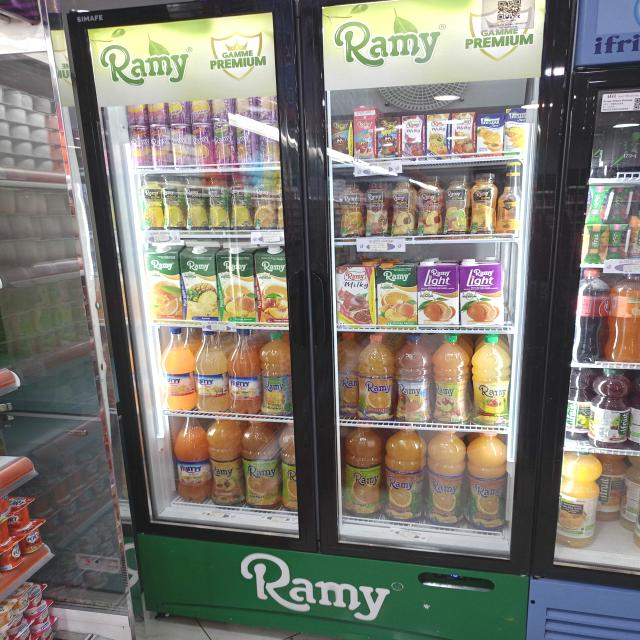Ifruit: (579, 367, 636, 447), (568, 456, 602, 546)
PET Frutty orange 125L: (153, 327, 198, 409), (171, 419, 210, 499)
PET RAMY COCKTAIL 125L: (438, 338, 468, 423)
PET RAMY Orange Ananas125L: (262, 338, 288, 416)
Pack Ramy Orange 2L: (426, 431, 463, 521), (469, 433, 504, 528), (387, 429, 423, 520)
Pack Ramy abricot Peche 2L: (209, 421, 244, 504)
Pack Ramy abricot orange 2L: (243, 424, 280, 508), (346, 427, 381, 513), (280, 427, 304, 510)
Pet Ramy Fraise 20cl: (354, 119, 375, 159)
Pet Ramy Orange ananas 2L: (182, 249, 218, 319)
Pet Ramy Orange peche 2l: (257, 248, 292, 324)
Pet Ramy chocolat 20cl: (331, 119, 354, 162)
Pet Ramy chocolat Fraise20cl: (379, 118, 398, 160)
Premium Pack Ramy Light Orange 1L: (463, 261, 504, 326), (418, 263, 460, 326)
RAMY EXTRA ANANAS MANGUE 300 CL: (144, 174, 164, 230)
RAMY EXTRA agrumes 300 CL: (445, 175, 467, 238)
RAMY EXTRA orange 300 CL: (256, 176, 276, 228)
RAMY EXTRA orange Ananas 300 CL: (473, 177, 494, 233)
RAMY EXTRA orange300 CL: (339, 180, 365, 236)
RAMY EXTRA peche 300 CL: (418, 180, 442, 238), (390, 180, 414, 238)
RAMY EXTRA peche fraise300 CL: (365, 182, 389, 239)
Ramy Milky peach 20 CL: (452, 113, 477, 159)
Ramy extra Ananas 300cl: (164, 174, 186, 232), (210, 178, 230, 232), (190, 178, 209, 230), (235, 179, 254, 231)
Ramy frutty orange abricot 20cl: (478, 114, 502, 158)
Ramy milky cocktail 20cl: (429, 114, 450, 160)
Ramy milky fraise framboise 20cL: (402, 116, 425, 162)
Ramy milky grenade 1L: (336, 265, 374, 325)
RamyPack Frutty ananas 20 CL: (505, 107, 528, 156)
fanta: (605, 278, 640, 356), (585, 269, 612, 361)
frutpet frutty annanas 125L: (193, 334, 230, 411)
frutpet frutty orange 125L: (232, 335, 260, 412)
pet ramy ananas 2L: (144, 247, 182, 319)
pet ramy orange abricot 2L: (220, 249, 257, 325)
ramy pomme banane 125L: (471, 337, 511, 424)
ramy pomme orange 125L: (395, 339, 436, 423), (358, 340, 392, 418), (336, 336, 362, 413)
ramy premium Orange Abricot 1L: (377, 265, 416, 325)
